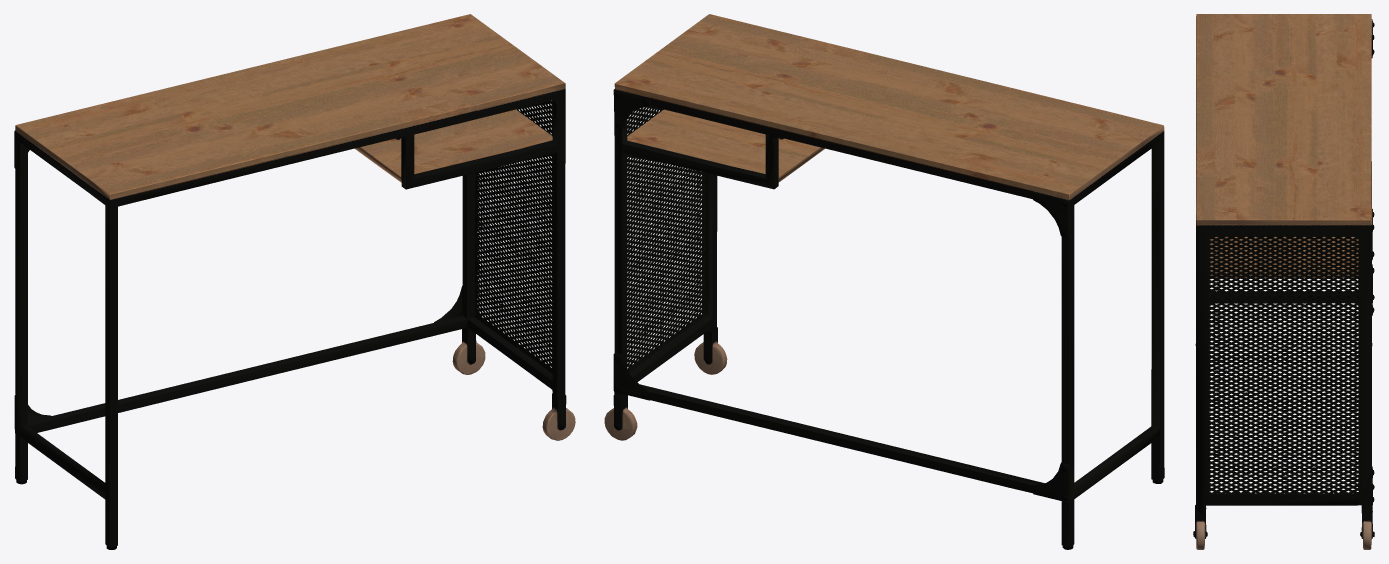
File: FJÄLLBO laptop table.glb
3 renders of one model, left to right at view 1: azimuth 30°, elevation 25°; view 2: azimuth 150°, elevation 25°; view 3: azimuth 270°, elevation 25°, orthographic. The views are drawn at different scales.
Visible parts, largest first — view 1: ProcessedMeshNode; view 2: ProcessedMeshNode; view 3: ProcessedMeshNode.
Part boxes in pixels (x1=…): ProcessedMeshNode: x1=14, y1=14, x2=575, y2=549; ProcessedMeshNode: x1=604, y1=14, x2=1164, y2=549; ProcessedMeshNode: x1=1193, y1=14, x2=1374, y2=549.
Size of the model in its own units: 1.02 by 0.7493 by 0.3729.
Materials: 1 (1 with a texture image).
